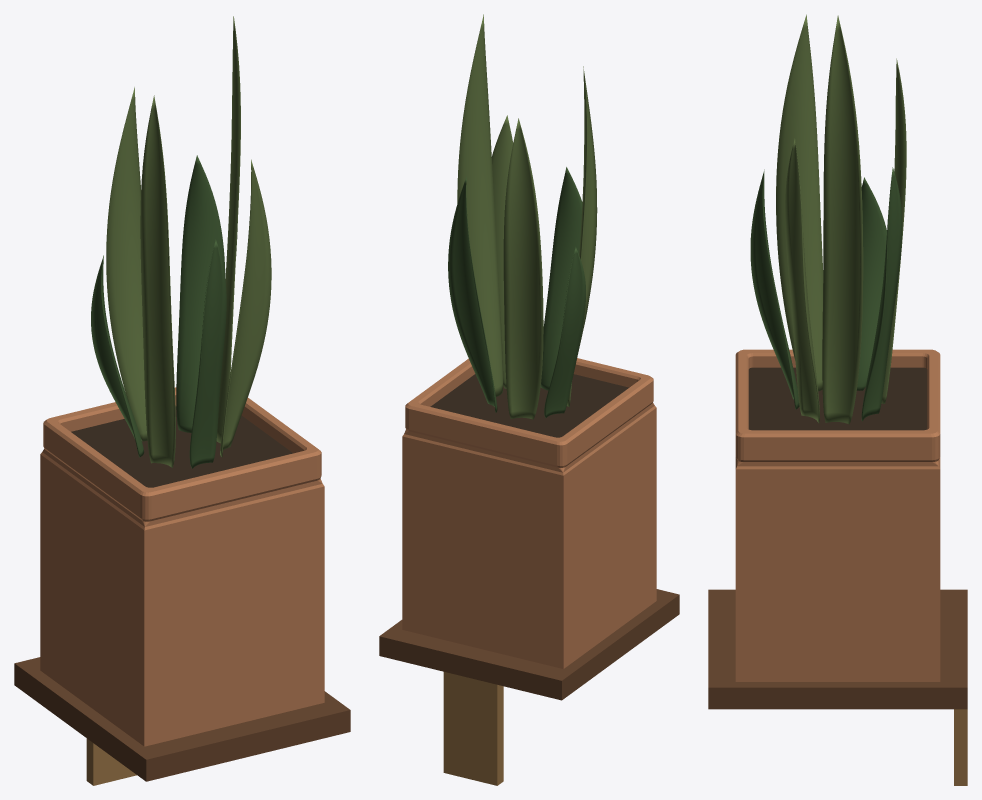
The model's file is wall-plant.glb.
The picture shows the model from 3 angles, left to right: view 1: azimuth 30°, elevation 25°; view 2: azimuth 150°, elevation 25°; view 3: azimuth 270°, elevation 25°; orthographic projection. The views are drawn at different scales.
Visible parts, largest first — view 1: ClosedSquarePlanter.001, WallShelf, Leaf05.001, Leaf03.001, Leaf02.001, Leaf07.001, Leaf06.001, Leaf01.001, Leaf04.001, WallShelfBackplate; view 2: ClosedSquarePlanter.001, WallShelf, Leaf03.001, Leaf01.001, WallShelfBackplate, Leaf02.001, Leaf06.001, Leaf04.001, Leaf05.001, Leaf07.001; view 3: ClosedSquarePlanter.001, Leaf01.001, WallShelf, Leaf05.001, Leaf07.001, Leaf02.001, Leaf06.001, Leaf04.001, Leaf03.001, WallShelfBackplate.
Boxes of the visible parts, bbox=[...] form: ClosedSquarePlanter.001: bbox=[40, 387, 324, 746]; WallShelf: bbox=[14, 657, 350, 781]; Leaf05.001: bbox=[140, 95, 175, 467]; Leaf03.001: bbox=[106, 87, 147, 441]; Leaf02.001: bbox=[176, 155, 225, 432]; Leaf07.001: bbox=[220, 159, 271, 457]; Leaf06.001: bbox=[189, 239, 226, 468]; Leaf01.001: bbox=[216, 16, 240, 443]; Leaf04.001: bbox=[91, 255, 144, 457]; WallShelfBackplate: bbox=[86, 738, 136, 785]; ClosedSquarePlanter.001: bbox=[402, 358, 656, 668]; WallShelf: bbox=[379, 589, 679, 700]; Leaf03.001: bbox=[503, 118, 543, 419]; Leaf01.001: bbox=[457, 14, 503, 396]; WallShelfBackplate: bbox=[443, 672, 503, 785]; Leaf02.001: bbox=[448, 177, 497, 412]; Leaf06.001: bbox=[540, 167, 587, 390]; Leaf04.001: bbox=[544, 247, 585, 417]; Leaf05.001: bbox=[567, 66, 597, 406]; Leaf07.001: bbox=[491, 115, 513, 388]; ClosedSquarePlanter.001: bbox=[735, 349, 940, 681]; Leaf01.001: bbox=[822, 15, 863, 424]; WallShelf: bbox=[708, 589, 967, 709]; Leaf05.001: bbox=[776, 14, 823, 391]; Leaf07.001: bbox=[785, 138, 819, 423]; Leaf02.001: bbox=[861, 167, 902, 421]; Leaf06.001: bbox=[750, 169, 799, 409]; Leaf04.001: bbox=[857, 177, 886, 390]; Leaf03.001: bbox=[881, 58, 906, 403]; WallShelfBackplate: bbox=[954, 709, 967, 785].
Bounding box in the file's own units: 0.34 × 1.26 × 0.38.
